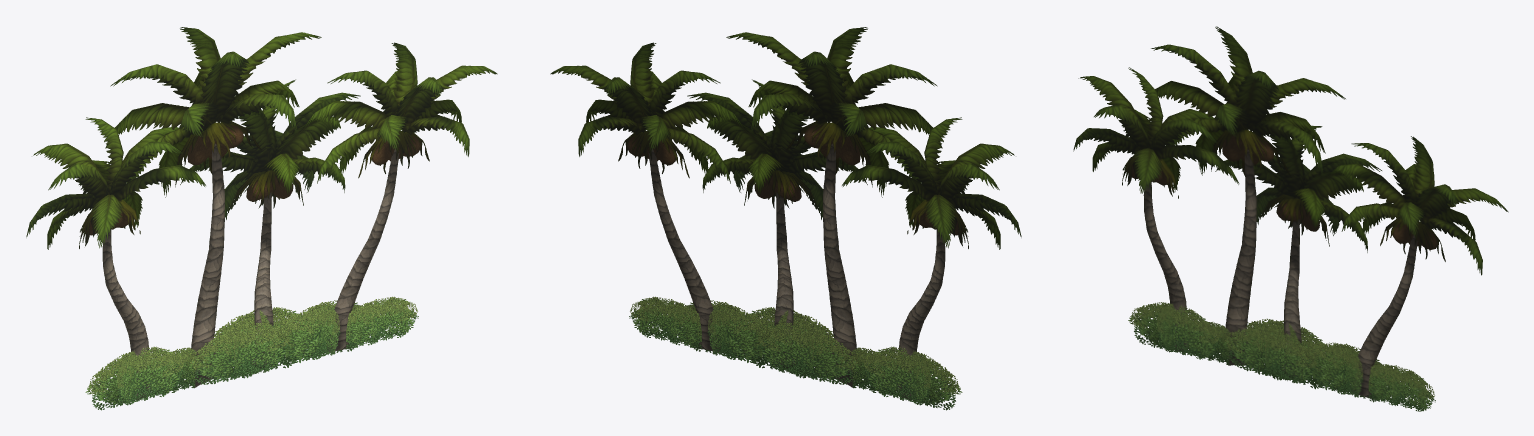
File: fake palms.FBX
3 renders of one model, left to right at view 1: azimuth 30°, elevation 25°; view 2: azimuth 150°, elevation 25°; view 3: azimuth 330°, elevation 25°, orthographic. The views are drawn at different scales.
Visible parts, largest first — view 1: fake palms; view 2: fake palms; view 3: fake palms.
Boxes of the visible parts, box(x1,y1,x2,y2) form: fake palms: box(26, 27, 497, 410); fake palms: box(550, 27, 1021, 410); fake palms: box(1073, 26, 1508, 411).
Size of the model in its own units: 15.53 by 11.45 by 1.87e-06.
Materials: 1 (1 with a texture image).
